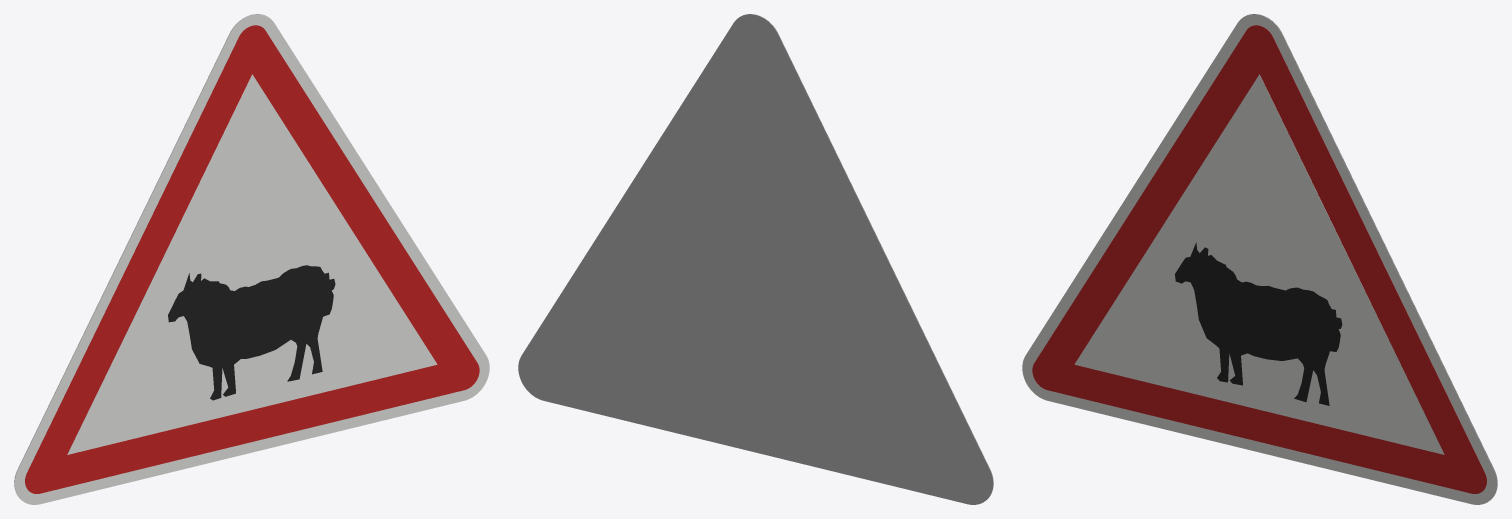
The picture shows the model from 3 angles, left to right: view 1: azimuth 30°, elevation 25°; view 2: azimuth 150°, elevation 25°; view 3: azimuth 330°, elevation 25°; orthographic projection.
Visible parts, largest first — view 1: A15a2_p02, A15a2_p01, A15a2_p00, A15a2_p03, A15a2_dos; view 2: A15a2_dos, A15a2_p00; view 3: A15a2_p02, A15a2_p01, A15a2_p00, A15a2_p03, A15a2_dos.
Part boxes in pixels (left/top/right/bottom): A15a2_p02: left=67, top=74, right=437, bottom=454; A15a2_p01: left=25, top=25, right=479, bottom=493; A15a2_p00: left=14, top=14, right=489, bottom=504; A15a2_p03: left=168, top=265, right=335, bottom=400; A15a2_dos: left=14, top=14, right=265, bottom=500; A15a2_dos: left=518, top=14, right=993, bottom=504; A15a2_p00: left=742, top=14, right=993, bottom=500; A15a2_p02: left=1074, top=74, right=1444, bottom=454; A15a2_p01: left=1032, top=25, right=1486, bottom=493; A15a2_p00: left=1022, top=14, right=1497, bottom=504; A15a2_p03: left=1175, top=242, right=1342, bottom=405; A15a2_dos: left=1246, top=14, right=1497, bottom=500.
Size of the model in its own units: 1 by 0.8803 by 0.0031.
